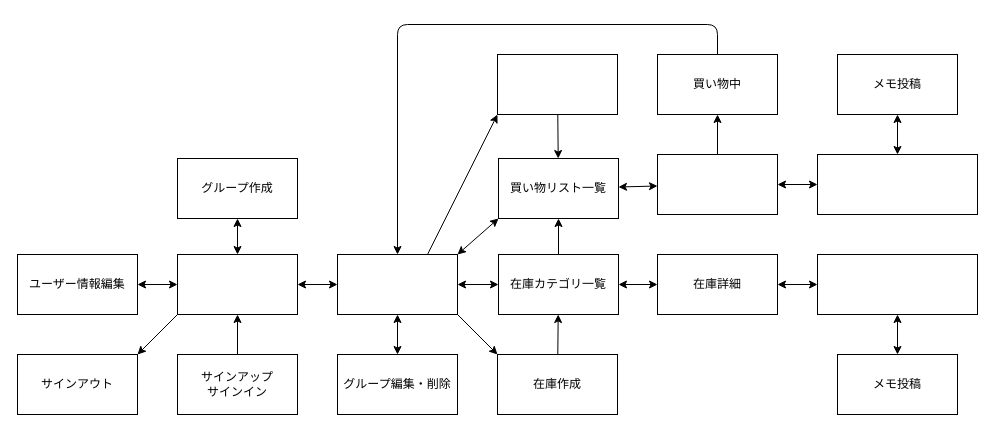
The diagram is 995 pixels wide and 432 high, and some of its shapes have lost their labels. Here are the shapes that lost their labels. From the top down, the centre of each, then its label:
At pixel 557 84: "買い物リスト作成".
At pixel 717 184: "買い物リスト詳細".
At pixel 897 184: "買い物リスト編集・削除".
At pixel 237 284: "トップページ グループ一覧表示".
At pixel 397 284: "グループ詳細".
At pixel 897 284: "在庫編集・削除".
